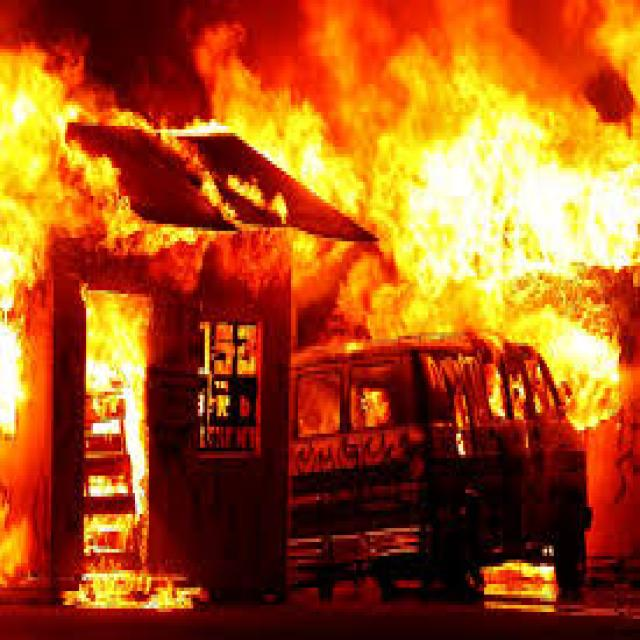fire: (208, 112, 639, 438), (0, 37, 136, 257), (88, 296, 142, 572)
